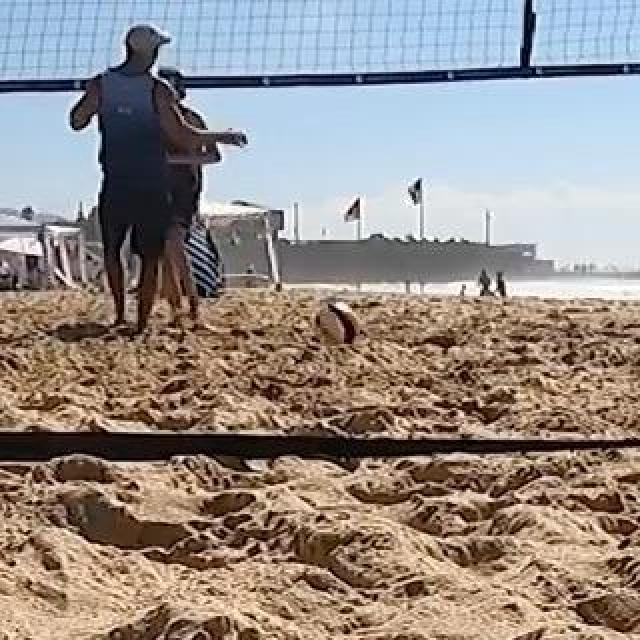volleyball: (316, 301, 360, 345)
